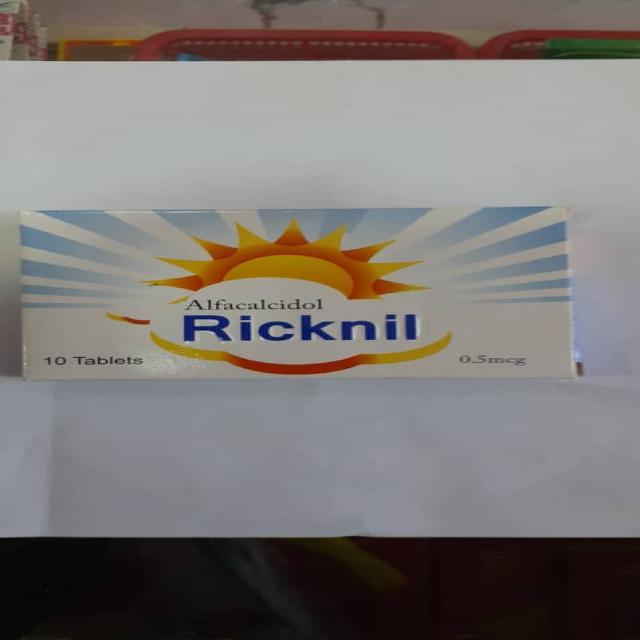drug-name: (176, 311, 428, 344)
